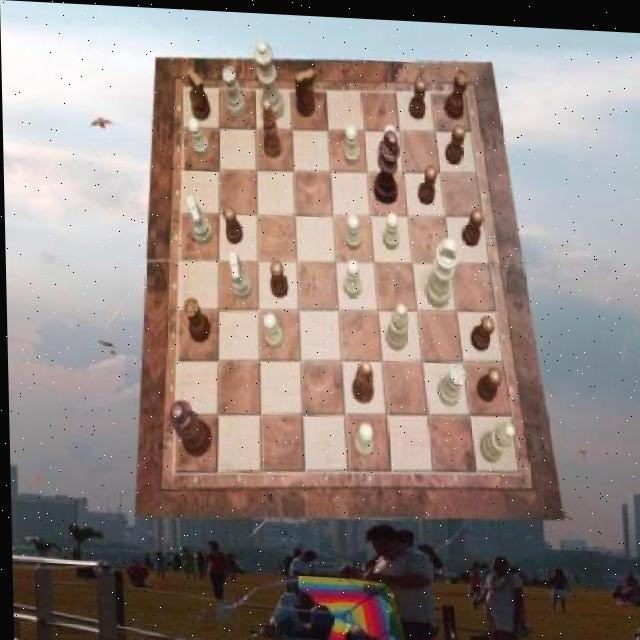bishop: (262, 97, 283, 156), (351, 355, 374, 399)
black-bishop: (372, 124, 401, 200)
black-king: (187, 66, 211, 119), (295, 66, 316, 114)
black-knight: (461, 203, 485, 242), (475, 361, 500, 398), (443, 119, 465, 160), (470, 311, 493, 348), (417, 161, 437, 202), (223, 204, 244, 243), (409, 73, 427, 116), (269, 257, 287, 295)
black-pawn: (167, 397, 211, 457)
black-queen: (182, 295, 210, 342), (444, 63, 469, 115)
black-rook: (478, 418, 514, 459), (385, 298, 409, 345)
white-bishop: (422, 233, 459, 305)
white-king: (186, 194, 213, 244), (229, 249, 253, 298)
white-knight: (188, 115, 210, 155), (262, 310, 283, 347), (353, 419, 374, 454), (343, 256, 361, 295), (377, 120, 395, 159), (343, 121, 360, 162), (382, 208, 400, 246), (343, 211, 361, 246)
white-pawn: (254, 38, 285, 119)
white-queen: (222, 63, 246, 116), (437, 359, 465, 402)
